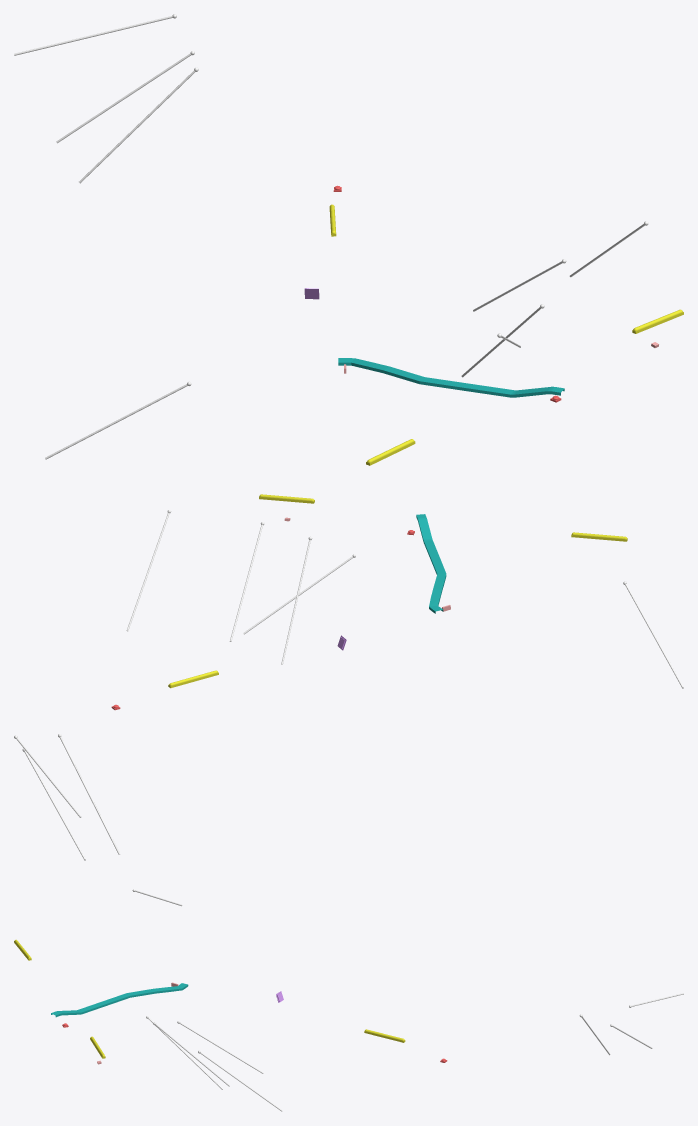
The model's file is tile_348.glb.
3 renders of one model, top to bottom at view 1: azimuth 30°, elevation 25°; view 2: azimuth 150°, elevation 25°; view 3: azimuth 270°, elevation 25°, orthographic. The views are drawn at different scales.
Size of the model in its own units: 12.87 by 2.67 by 18.52.
